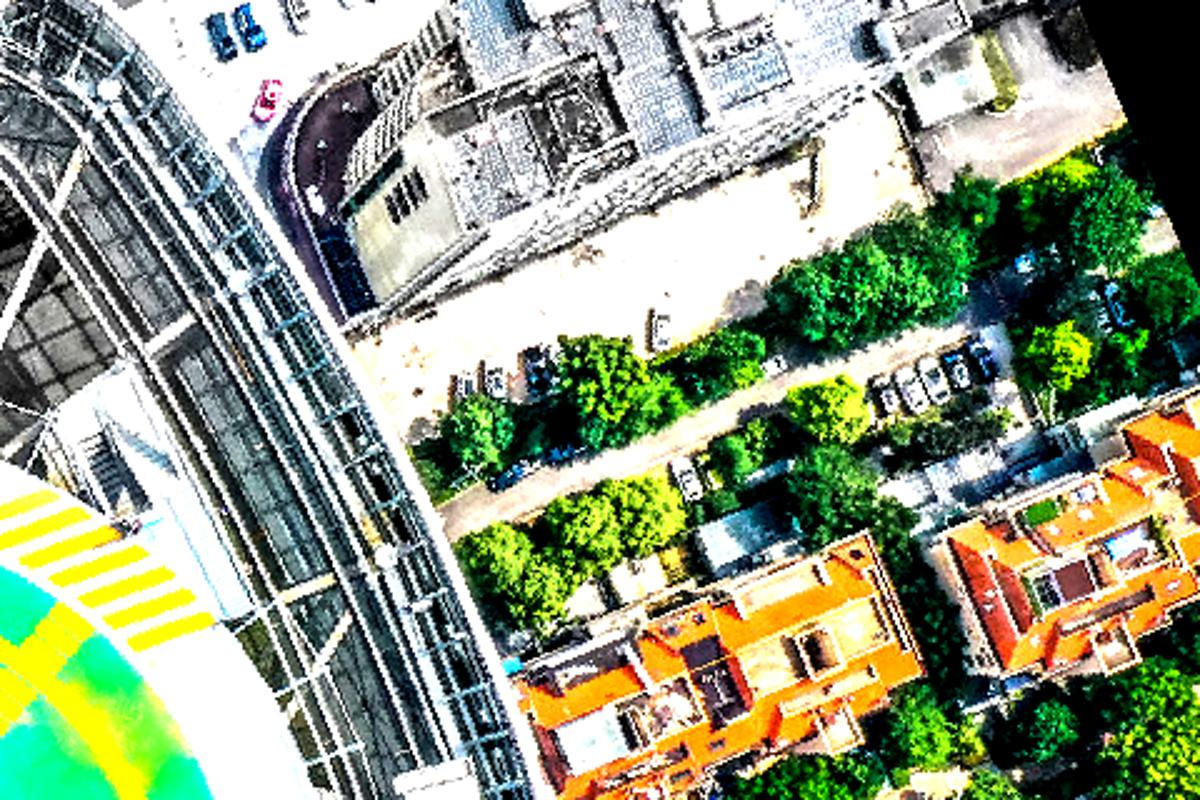Apron: (5, 630, 155, 800)
